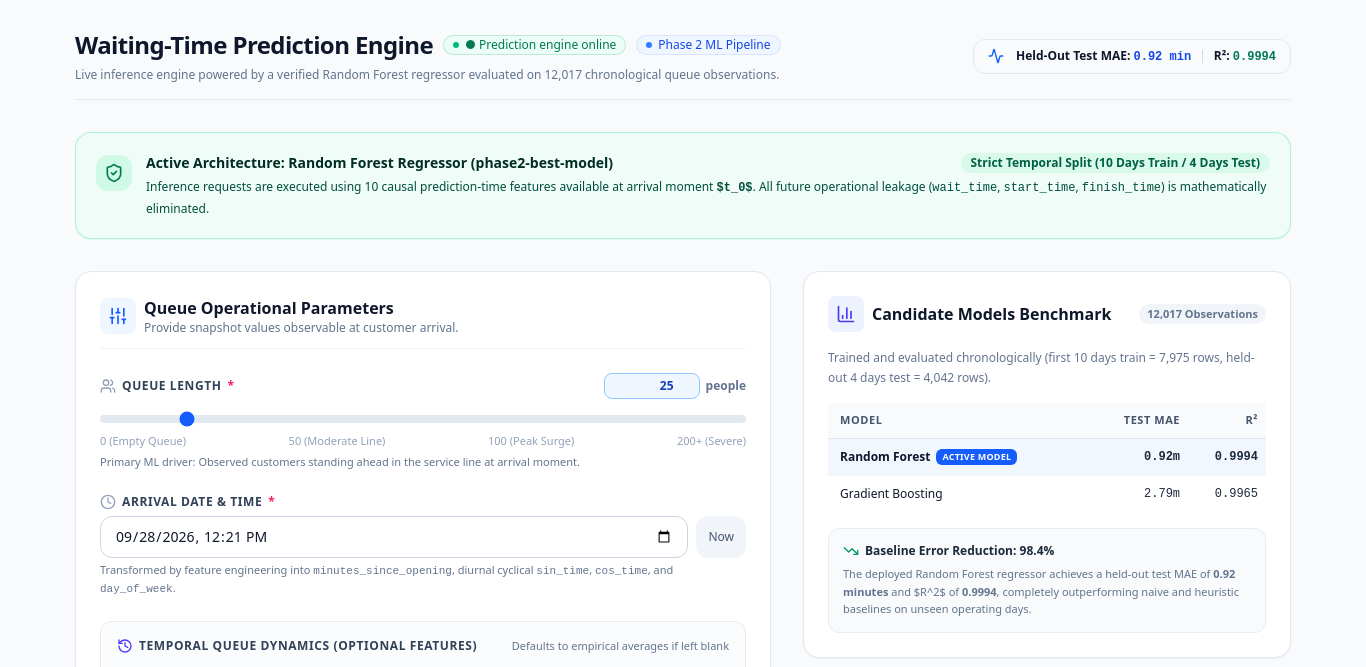
Test: Prediction Page Real-Time Integration & User Flow › 2. validates queue length and prevents submission on negative or invalid value
Note: Enter negative value
Replace the text in the number field labelled "Queue Length *" with "-5": (652, 386) x1=604 y1=373 x2=700 y2=399
(page scrolled)
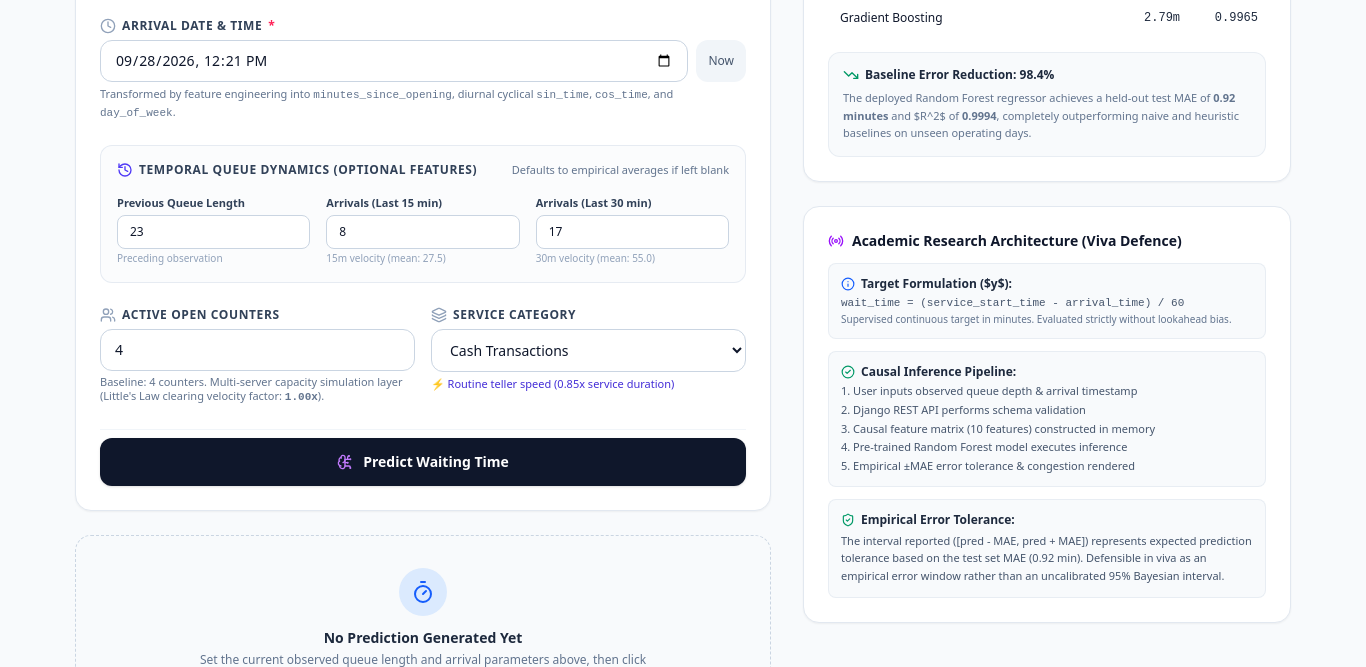
Click the button "Predict Waiting Time": click(423, 462) x1=100 y1=438 x2=746 y2=486
(page scrolled)
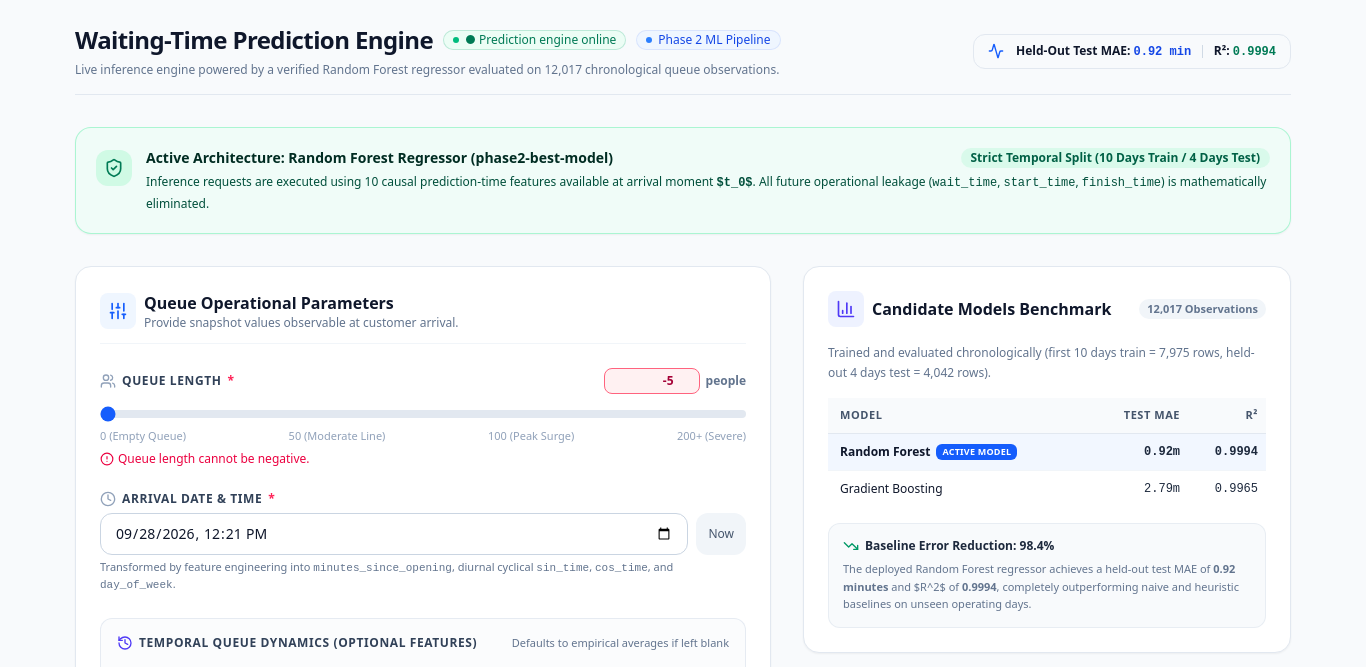
Result: the text "Queue length cannot be negative." is shown at x1=100 y1=450 x2=310 y2=466
Note: Enter empty value
Clear the number field labelled "Queue Length *": (652, 381) x1=604 y1=368 x2=700 y2=394
(page scrolled)
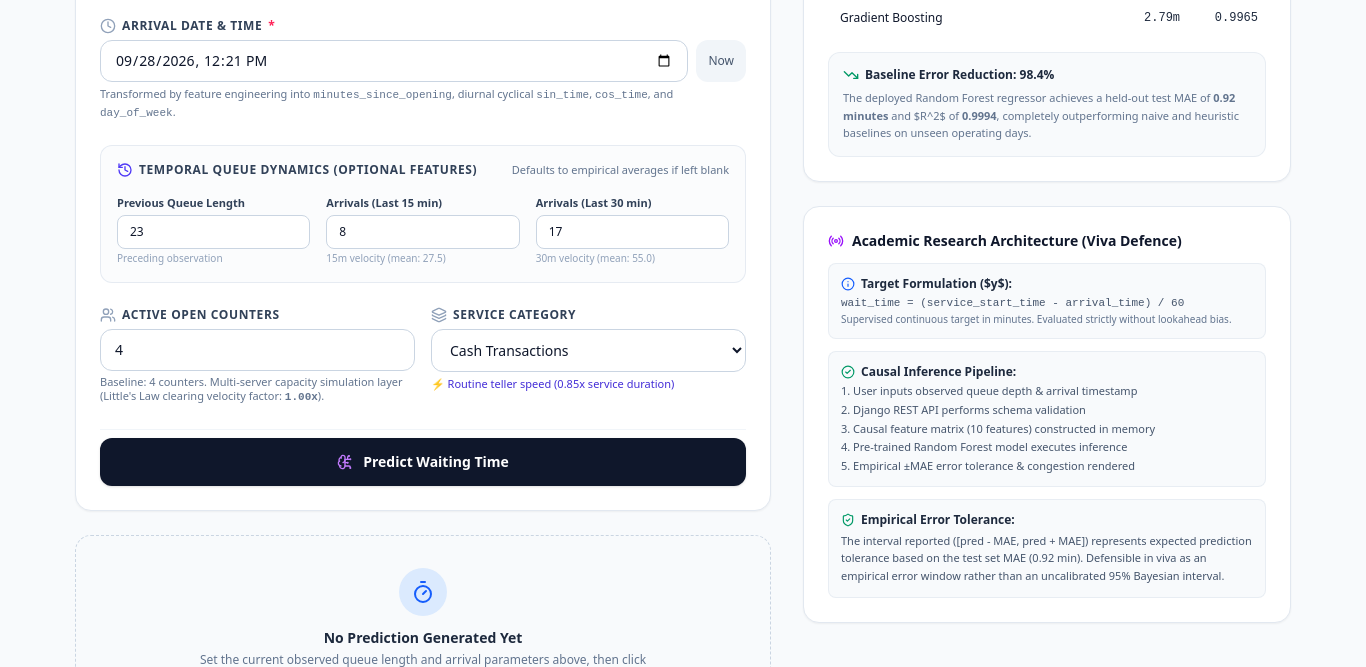
Click the button "Predict Waiting Time": click(423, 462) x1=100 y1=438 x2=746 y2=486
(page scrolled)
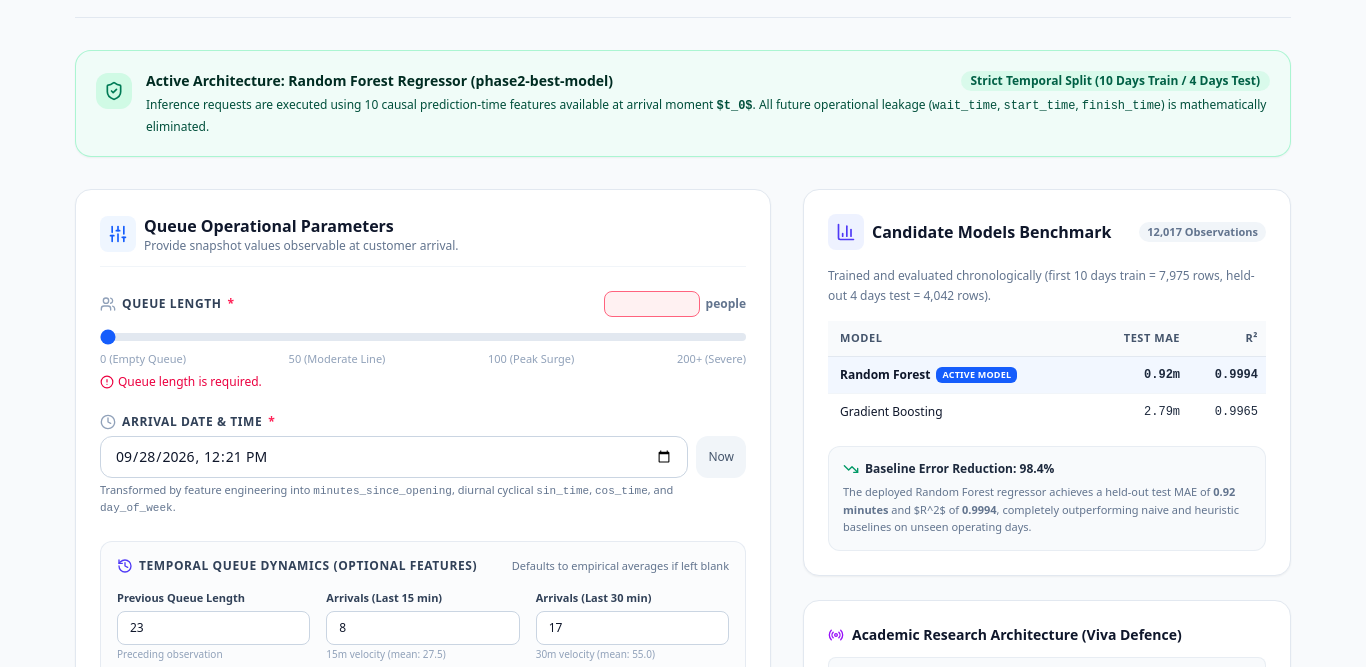
Result: the text "Queue length is required." is shown at x1=100 y1=372 x2=262 y2=390
